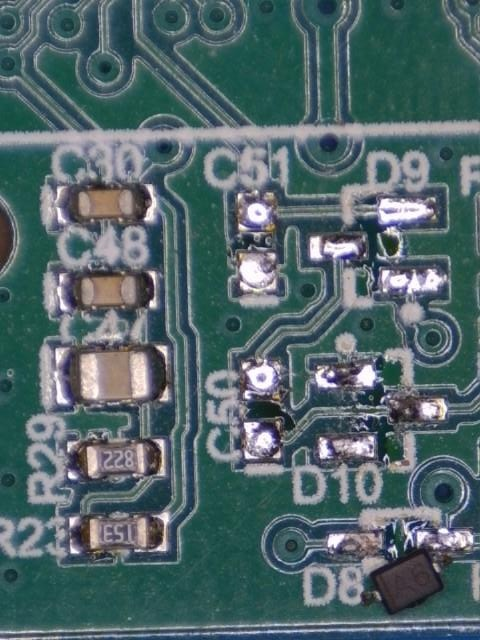pcb_defect: (360, 529, 473, 616)
